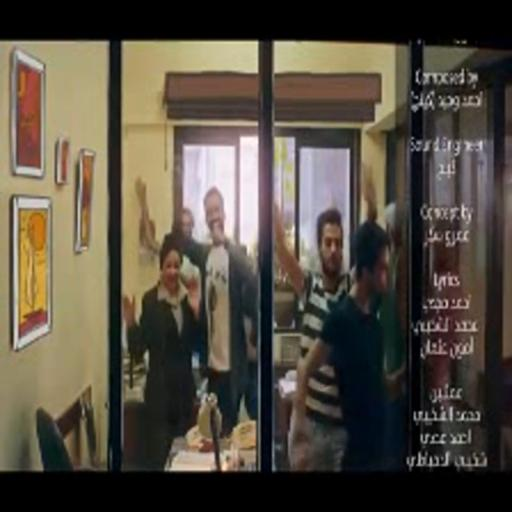nao-violencia: (262, 158, 417, 472), (112, 170, 263, 469)
